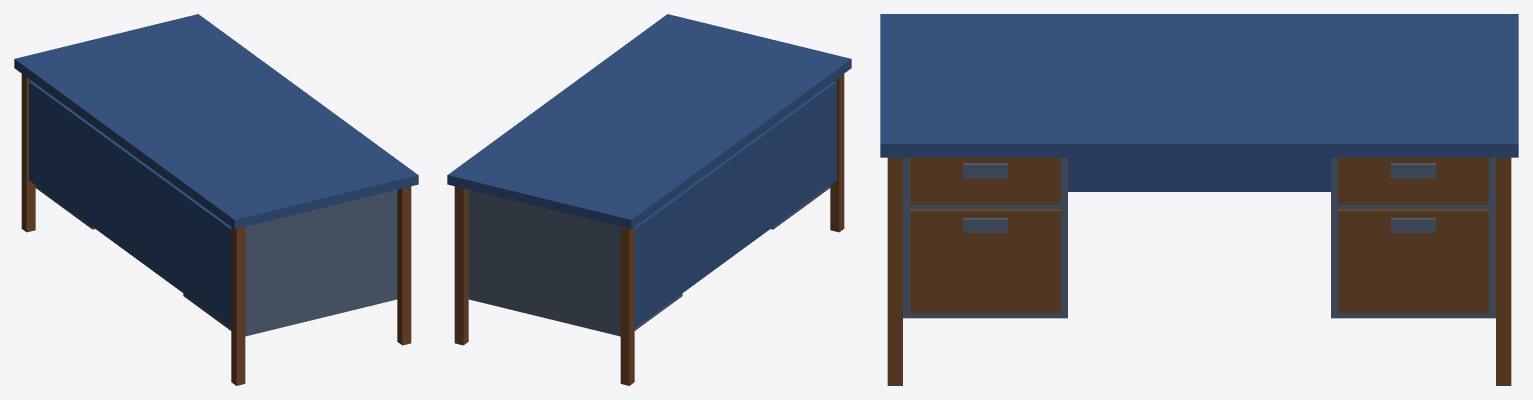
Rendered from SecureGuardTable.fbx.
3 views of the same model, side by side, from view 1: azimuth 30°, elevation 25°; view 2: azimuth 150°, elevation 25°; view 3: azimuth 270°, elevation 25° (orthographic). The views are drawn at different scales.
Visible parts, largest first — view 1: worldspawn_156, worldspawn_41; view 2: worldspawn_156, worldspawn_41; view 3: worldspawn_41, worldspawn_156, worldspawn_196.
Boxes of the visible parts, <box> form: worldspawn_156: <box>21,74,411,385</box>; worldspawn_41: <box>14,14,418,229</box>; worldspawn_156: <box>454,74,844,385</box>; worldspawn_41: <box>447,14,851,229</box>; worldspawn_41: <box>880,14,1518,157</box>; worldspawn_156: <box>887,157,1511,385</box>; worldspawn_196: <box>963,163,1435,232</box>.
Bounding box in the file's own units: 41 × 36 × 85.
